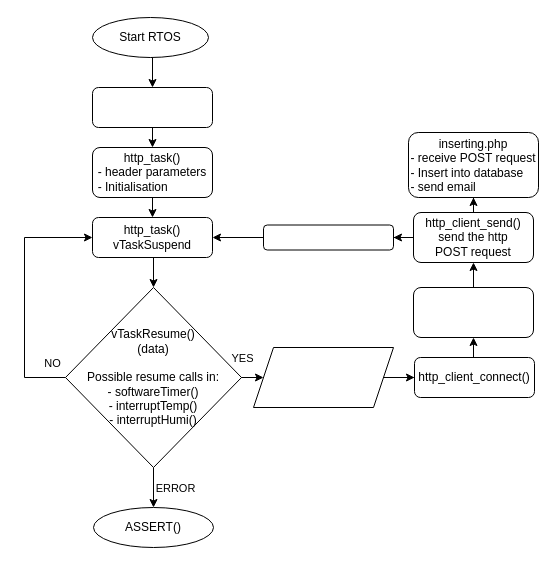
Image size: 556x565. Some labels were removed from this diagram. Here are the shapes that lost their labels. From the top down, the box of each, then its label:
(92, 86, 212, 128): wifi_connect()
(262, 224, 394, 250): http_client_disconnect()
(412, 286, 534, 338): strcat() sensorValue in correct body format
(252, 346, 394, 408): DHT_read() (off board sensor)
